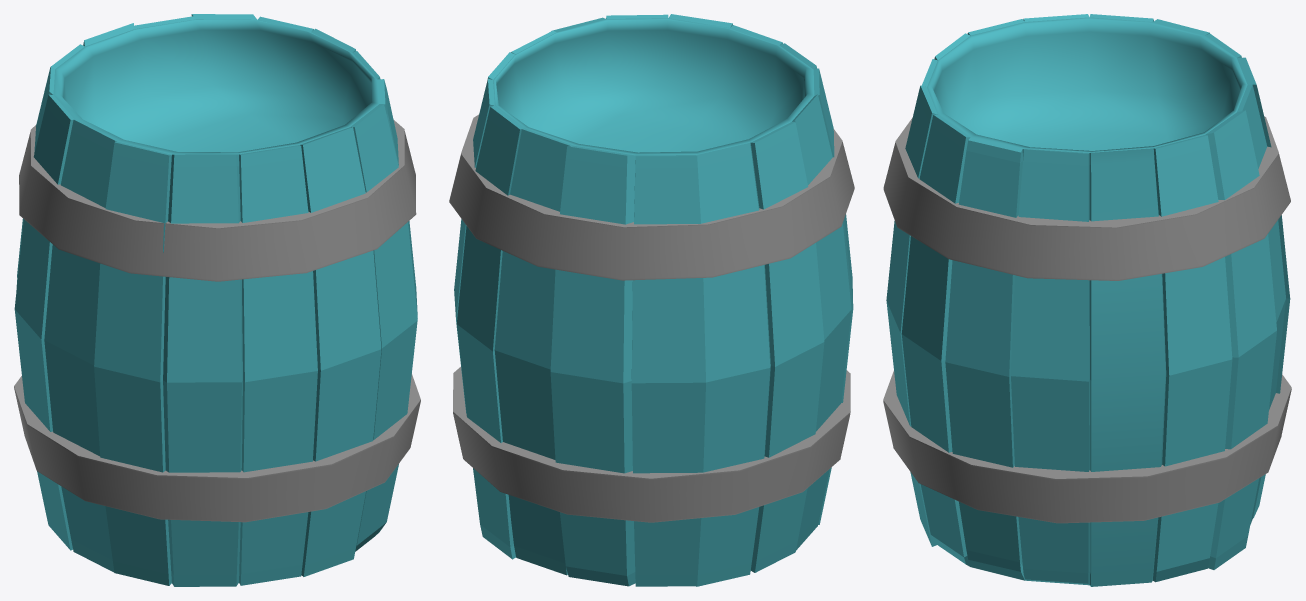
The model's file is Barril.FBX.
3 renders of one model, left to right at view 1: azimuth 30°, elevation 25°; view 2: azimuth 150°, elevation 25°; view 3: azimuth 270°, elevation 25°, orthographic.
Parts seen in each view (by area): view 1: Box027; view 2: Box027; view 3: Box027.
Boxes of the visible parts, <box> form: Box027: <box>14,14,420,586</box>; Box027: <box>449,14,854,586</box>; Box027: <box>883,14,1291,586</box>.
Size of the model in its own units: 62.44 by 73.85 by 63.02.
